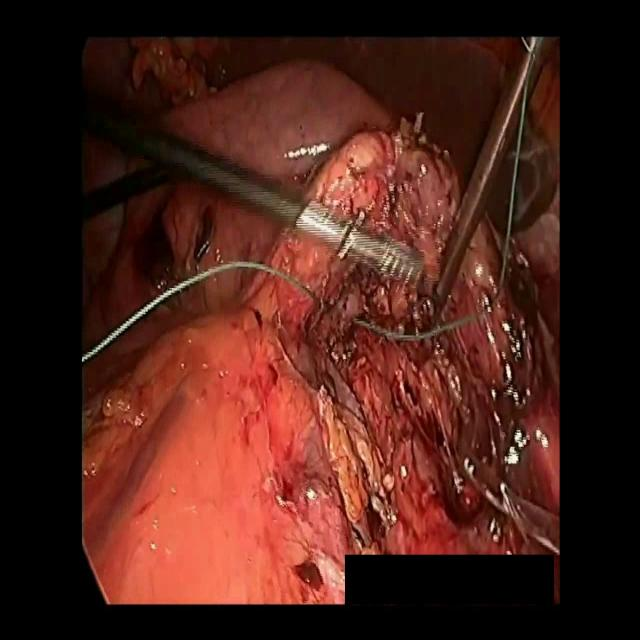surgical-area: (82, 37, 560, 604), (83, 39, 524, 292)
surgical-tool: (80, 72, 427, 293), (426, 39, 556, 299)
